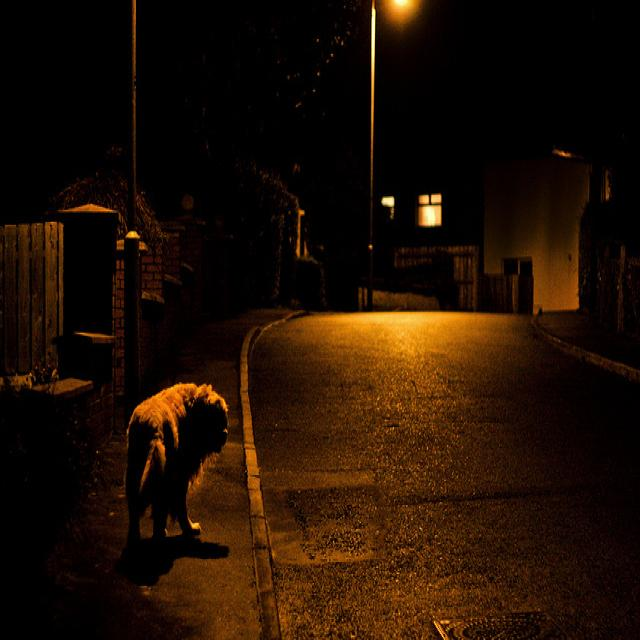Dog: (99, 359, 270, 530)
